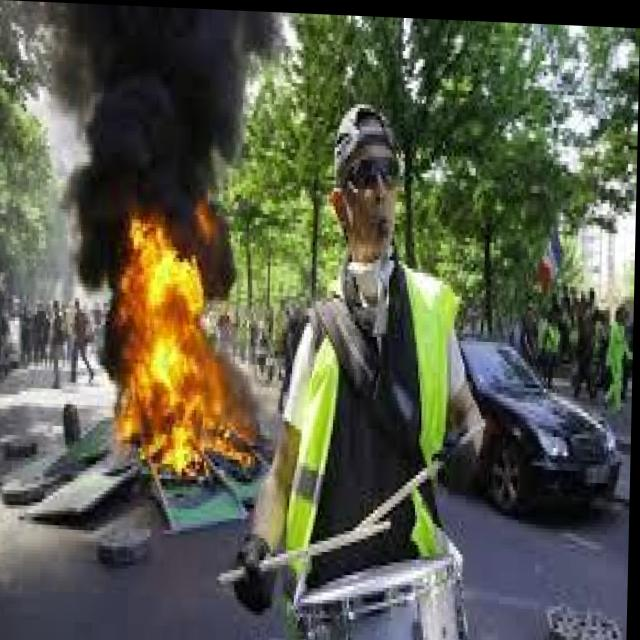fire: (89, 202, 270, 473)
